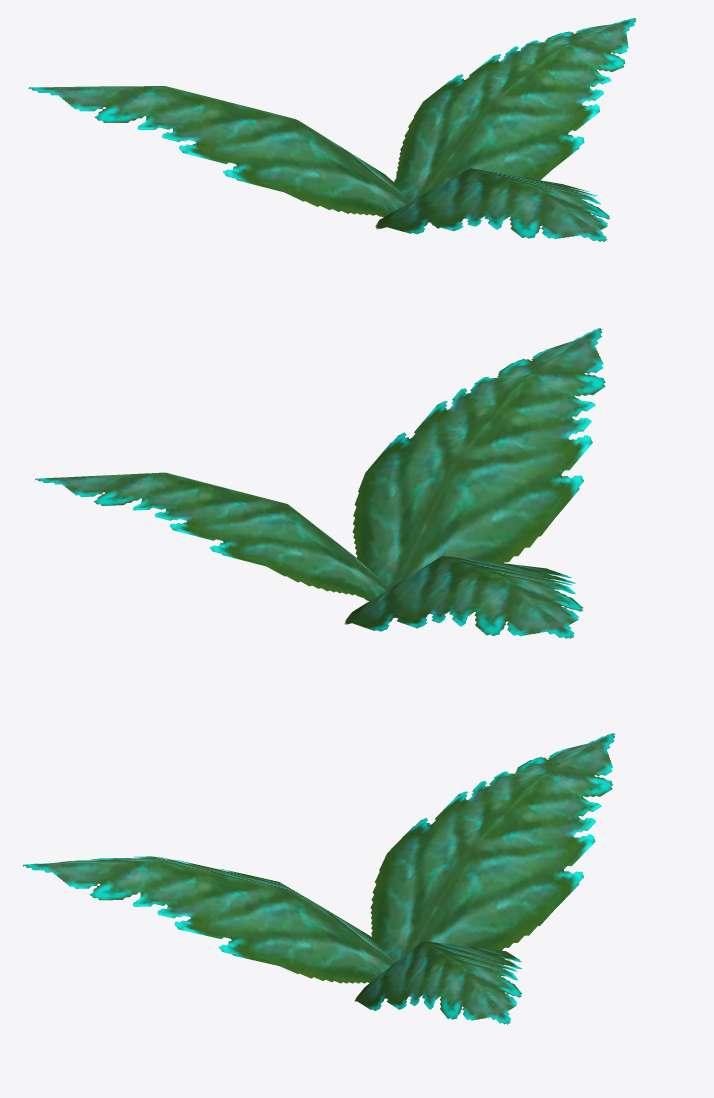
The model's file is INST_EKH_3LEAF_PLANT_01.fbx.
3 views of the same model, one above another, from view 1: azimuth 30°, elevation 25°; view 2: azimuth 150°, elevation 25°; view 3: azimuth 270°, elevation 25° (orthographic). The views are drawn at different scales.
Parts seen in each view (by area): view 1: INST_EKH_3LEAF_PLANT_01; view 2: INST_EKH_3LEAF_PLANT_01; view 3: INST_EKH_3LEAF_PLANT_01.
Part boxes in pixels (bbox=[...]): INST_EKH_3LEAF_PLANT_01: bbox=[28, 18, 636, 242]; INST_EKH_3LEAF_PLANT_01: bbox=[35, 328, 605, 638]; INST_EKH_3LEAF_PLANT_01: bbox=[23, 733, 615, 1024].
Size of the model in its own units: 10901 by 2222 by 10333.
Materials: 1 (1 with a texture image).
